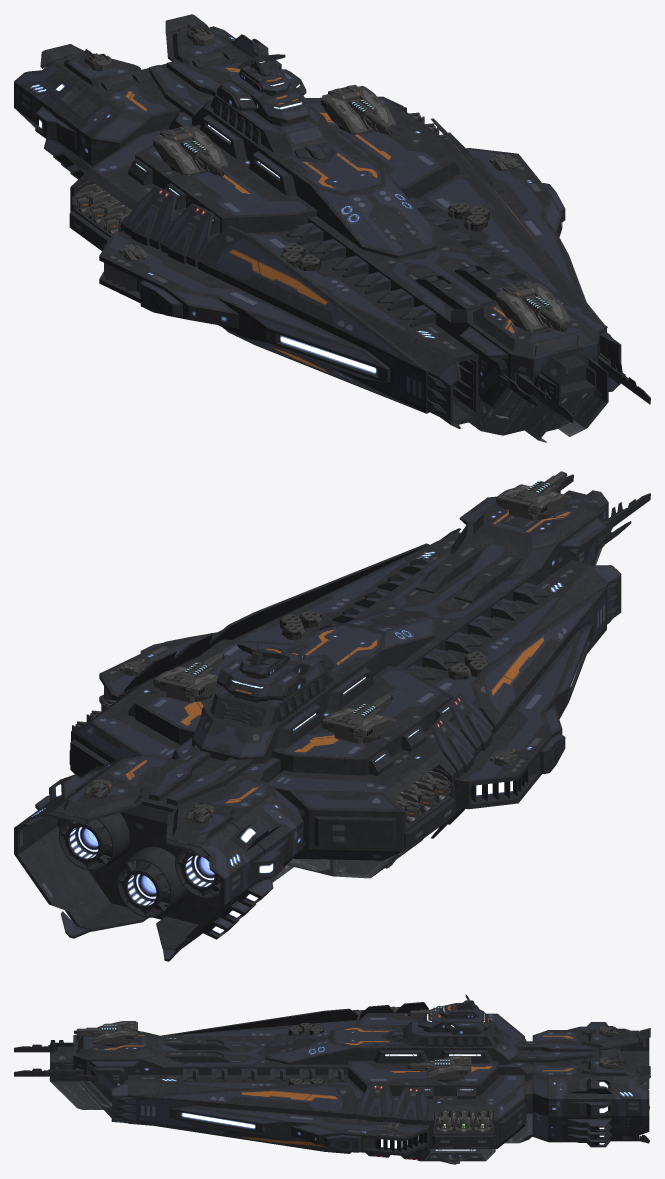
3 renders of one model, top to bottom at view 1: azimuth 30°, elevation 25°; view 2: azimuth 150°, elevation 25°; view 3: azimuth 270°, elevation 25°, orthographic. The views are drawn at different scales.
Parts seen in each view (by area): view 1: ScifiDestroyerSteelbladeHull_001_ScifiDestroyerSteelbladeGre, ScifiDestroyerSteelbladeHull_001_ScifiSpaceshipStandardWeapo; view 2: ScifiDestroyerSteelbladeHull_001_ScifiDestroyerSteelbladeGre, ScifiDestroyerSteelbladeHull_001_ScifiSpaceshipStandardWeapo; view 3: ScifiDestroyerSteelbladeHull_001_ScifiDestroyerSteelbladeGre, ScifiDestroyerSteelbladeHull_001_ScifiSpaceshipStandardWeapo.
Boxes of the visible parts, bbox=[...] form: ScifiDestroyerSteelbladeHull_001_ScifiDestroyerSteelbladeGre: bbox=[14, 14, 650, 442]; ScifiDestroyerSteelbladeHull_001_ScifiSpaceshipStandardWeapo: bbox=[72, 24, 570, 332]; ScifiDestroyerSteelbladeHull_001_ScifiDestroyerSteelbladeGre: bbox=[14, 474, 650, 961]; ScifiDestroyerSteelbladeHull_001_ScifiSpaceshipStandardWeapo: bbox=[72, 471, 570, 868]; ScifiDestroyerSteelbladeHull_001_ScifiDestroyerSteelbladeGre: bbox=[14, 994, 650, 1161]; ScifiDestroyerSteelbladeHull_001_ScifiSpaceshipStandardWeapo: bbox=[74, 1003, 625, 1164].
Size of the model in its own units: 250 by 125 by 509.
Materials: 2 (2 with a texture image).
